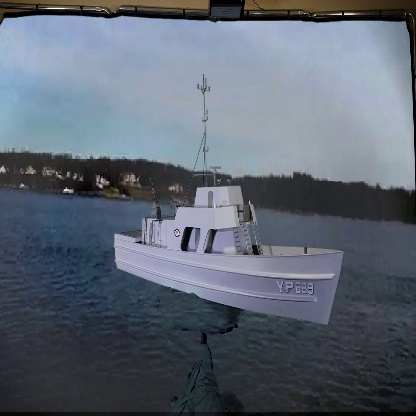YP689: (109, 73, 345, 327)
